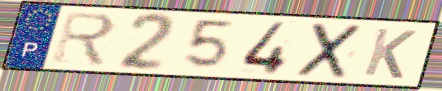2: (114, 10, 178, 73)
4: (239, 19, 289, 77)
5: (182, 18, 236, 72)
K: (360, 26, 419, 81)
R: (50, 10, 118, 68)
X: (293, 21, 366, 80)
